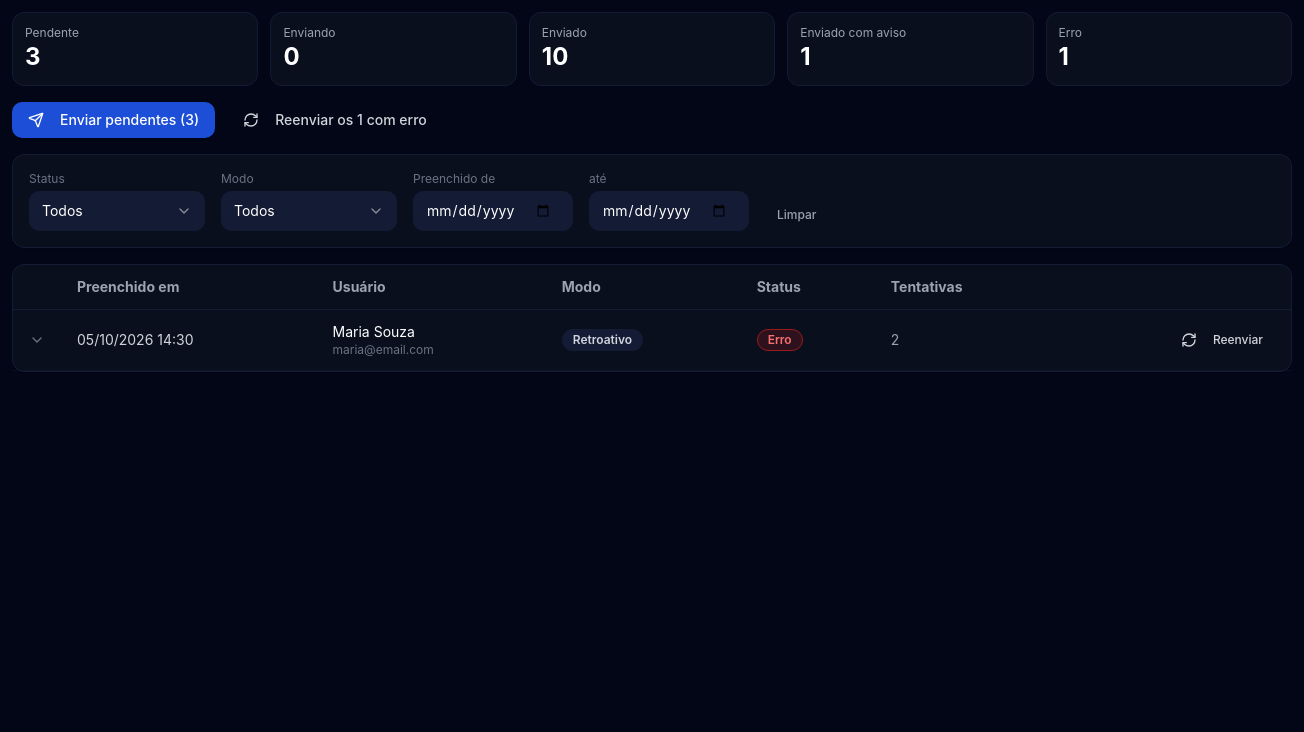
Test: EnviosTab › lista com a data do preenchimento em Brasília, mostra o erro ao abrir e reenvia
This screenshot has width=1304, height=732.
Expected: the text "maria@email.com" is shown, [333,342,434,357]
Expected: the text "05/10/2026 14:30" is shown, [61,310,317,370]
What coordinates should you click on to do the following:
click the text "Maria Souza"
I would click on:
 (374, 332)
Its box is [333,323,415,340].
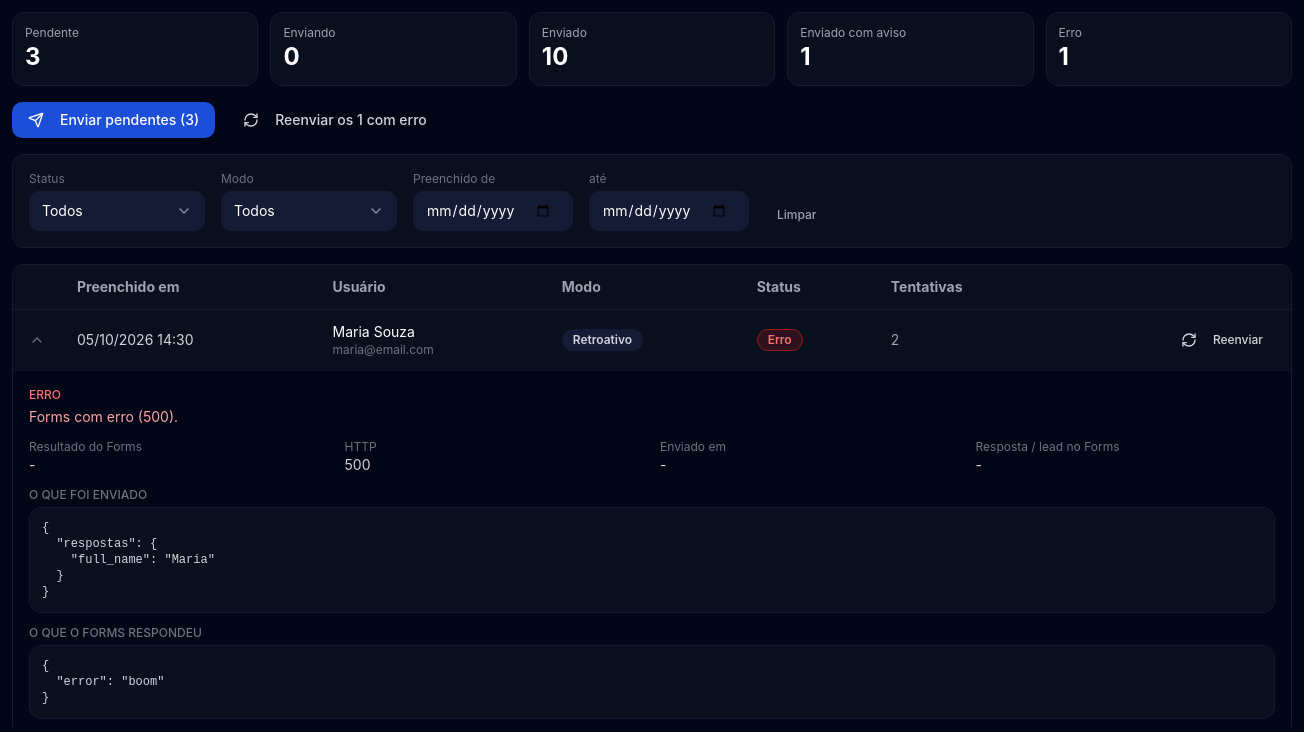
Expected: the text "Forms com erro (500)." is shown, [29,408,178,425]
What coordinates should you click on to do the following:
click the button "Reenviar"
I would click on:
 (1222, 340)
Its box is [1169,324,1275,356].
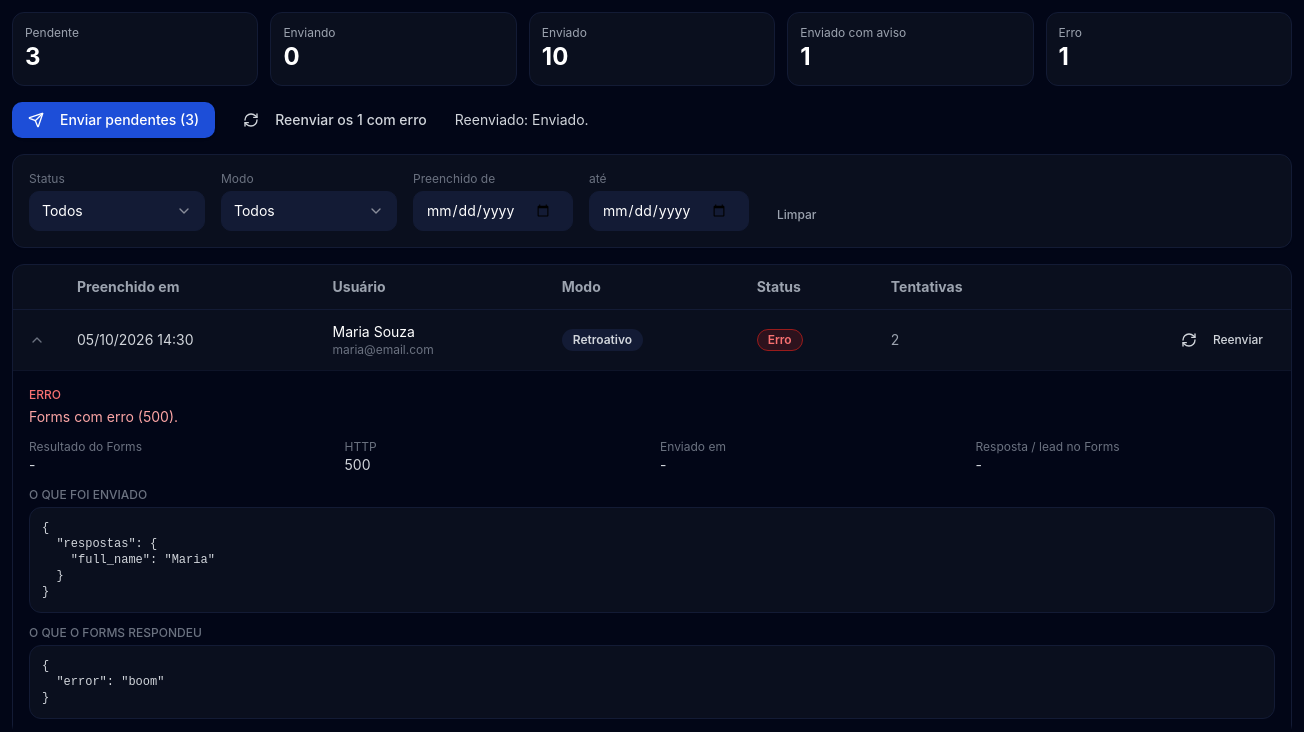
Expected: the text "Reenviado: Enviado." is shown, [455,110,589,130]
